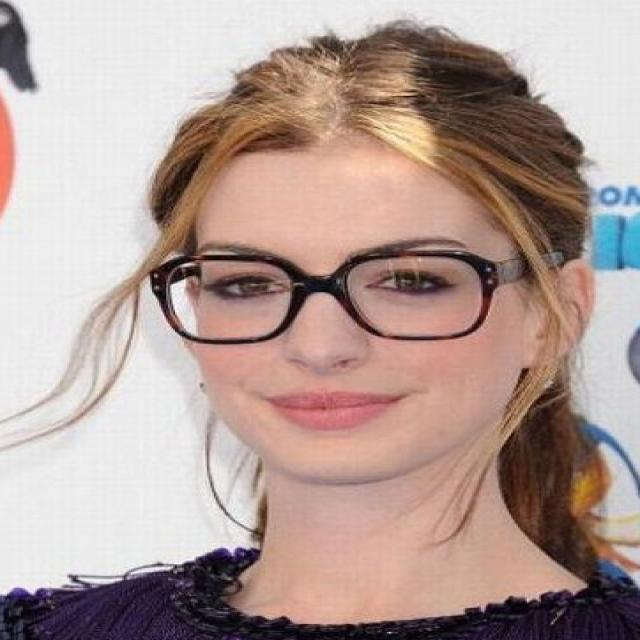Glasses: (148, 245, 568, 350)
